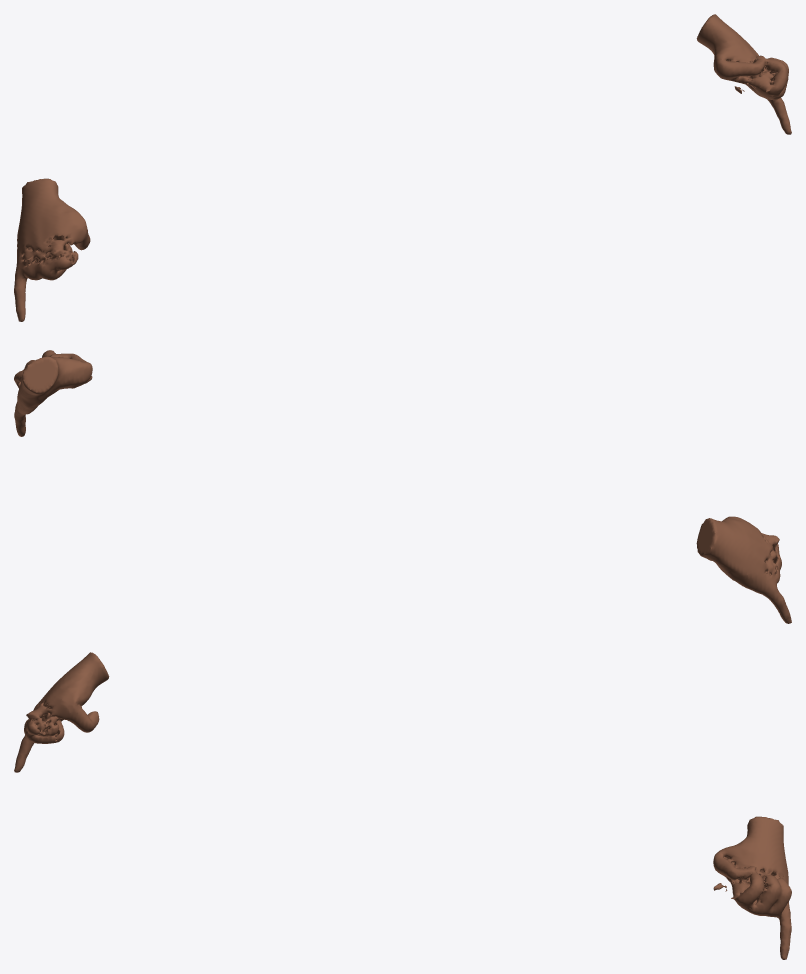
Rendered from hands-fist.glb.
The picture shows the model from 3 angles, top to bottom: view 1: azimuth 30°, elevation 25°; view 2: azimuth 150°, elevation 25°; view 3: azimuth 330°, elevation 25°; orthographic projection.
Visible parts, largest first — view 1: hands; view 2: hands; view 3: hands.
Part boxes in pixels (left/top/right/bottom): hands: left=14, top=14, right=791, bottom=321; hands: left=14, top=350, right=791, bottom=623; hands: left=14, top=652, right=791, bottom=959.
Bounding box in the file's own units: 0.9811 × 0.1346 × 0.1209.
